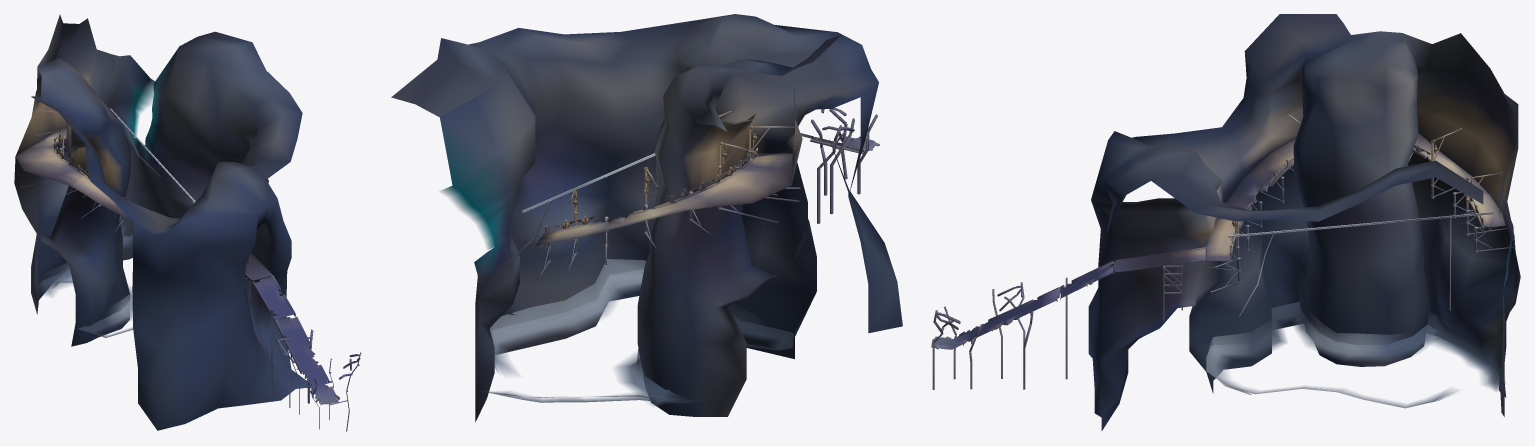
File: 05Cave.gltf
3 renders of one model, left to right at view 1: azimuth 30°, elevation 25°; view 2: azimuth 150°, elevation 25°; view 3: azimuth 270°, elevation 25°, orthographic. The views are drawn at different scales.
Parts seen in each view (by area): view 1: stg050_o44_Mesh_0000, stg050_o44_Mesh_0019, stg050_a44_Mesh_0000, stg050_shibukia_a_44_Mesh_0001, stg050_o44_Mesh_0007, stg050_shibukia_a_44_Mesh_0000, stg050_o44_Mesh_0001, stg050_o44_Mesh_0013; view 2: stg050_o44_Mesh_0000, stg050_a44_Mesh_0000, stg050_shibukia_a_44_Mesh_0001, stg050_o44_Mesh_0019, stg050_shibukia_a_44_Mesh_0000, stg050_o44_Mesh_0001, stg050_o44_Mesh_0007, stg050_p44_Mesh_0000; view 3: stg050_o44_Mesh_0000, stg050_o44_Mesh_0019, stg050_shibukia_a_44_Mesh_0001, stg050_shibukia_a_44_Mesh_0000, stg050_o44_Mesh_0007, stg050_o44_Mesh_0001.
Part boxes in pixels (x1,y1,x2,y2): stg050_o44_Mesh_0000: (14,14,310,430); stg050_o44_Mesh_0019: (15,128,361,431); stg050_a44_Mesh_0000: (117,47,178,174); stg050_shibukia_a_44_Mesh_0001: (38,234,133,337); stg050_o44_Mesh_0007: (53,108,339,397); stg050_shibukia_a_44_Mesh_0000: (45,225,132,318); stg050_o44_Mesh_0001: (20,109,194,232); stg050_o44_Mesh_0013: (53,137,339,399); stg050_o44_Mesh_0000: (391,14,902,422); stg050_a44_Mesh_0000: (440,86,516,275); stg050_shibukia_a_44_Mesh_0001: (488,270,793,406); stg050_o44_Mesh_0019: (535,107,879,245); stg050_shibukia_a_44_Mesh_0000: (481,259,763,400); stg050_o44_Mesh_0001: (503,111,800,279); stg050_o44_Mesh_0007: (503,129,844,269); stg050_p44_Mesh_0000: (545,147,758,234); stg050_o44_Mesh_0000: (1088,14,1520,430); stg050_o44_Mesh_0019: (931,133,1505,389); stg050_shibukia_a_44_Mesh_0001: (1206,302,1502,408); stg050_shibukia_a_44_Mesh_0000: (1208,311,1502,402); stg050_o44_Mesh_0007: (940,143,1493,349); stg050_o44_Mesh_0001: (1206,114,1513,310).
Size of the model in its own units: 101 by 113 by 173.
